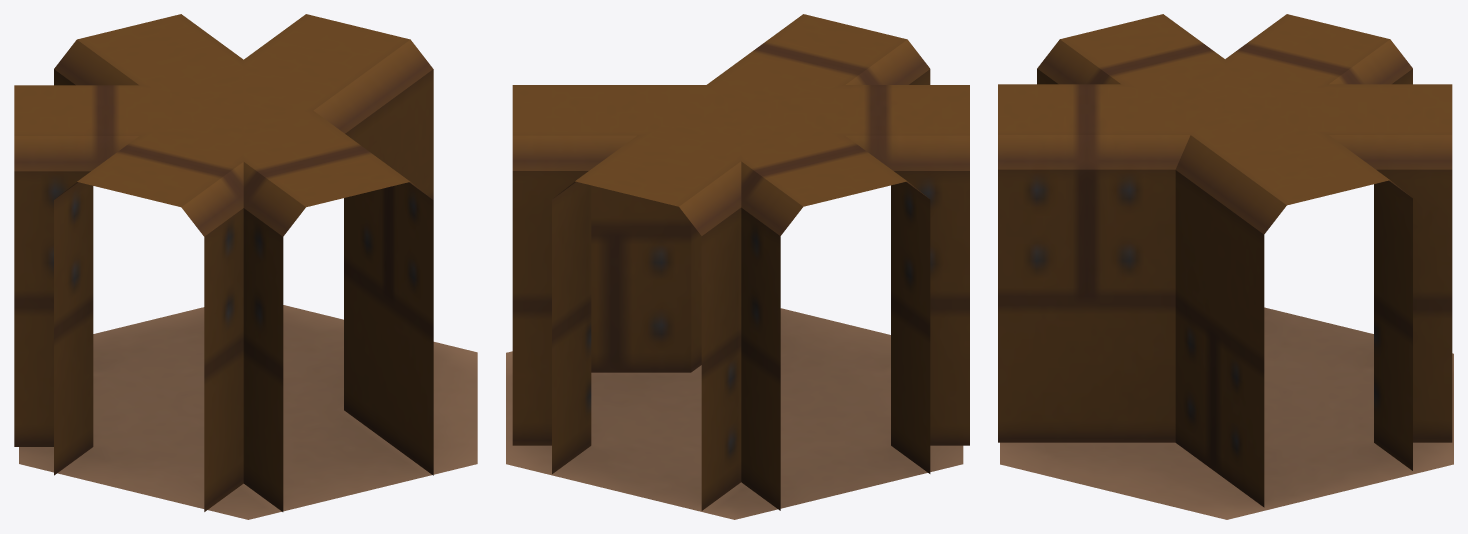
Rendered from Barriere_X3.FBX.
The picture shows the model from 3 angles, left to right: view 1: azimuth 30°, elevation 25°; view 2: azimuth 150°, elevation 25°; view 3: azimuth 270°, elevation 25°; orthographic projection.
Parts seen in each view (by area): view 1: Barriere_X3; view 2: Barriere_X3; view 3: Barriere_X3.
Part boxes in pixels (x1,y1,x2,y2): Barriere_X3: (14, 14, 477, 519); Barriere_X3: (506, 14, 969, 519); Barriere_X3: (998, 14, 1453, 519).
Bounding box in the file's own units: 1 × 0.6247 × 0.8697.
